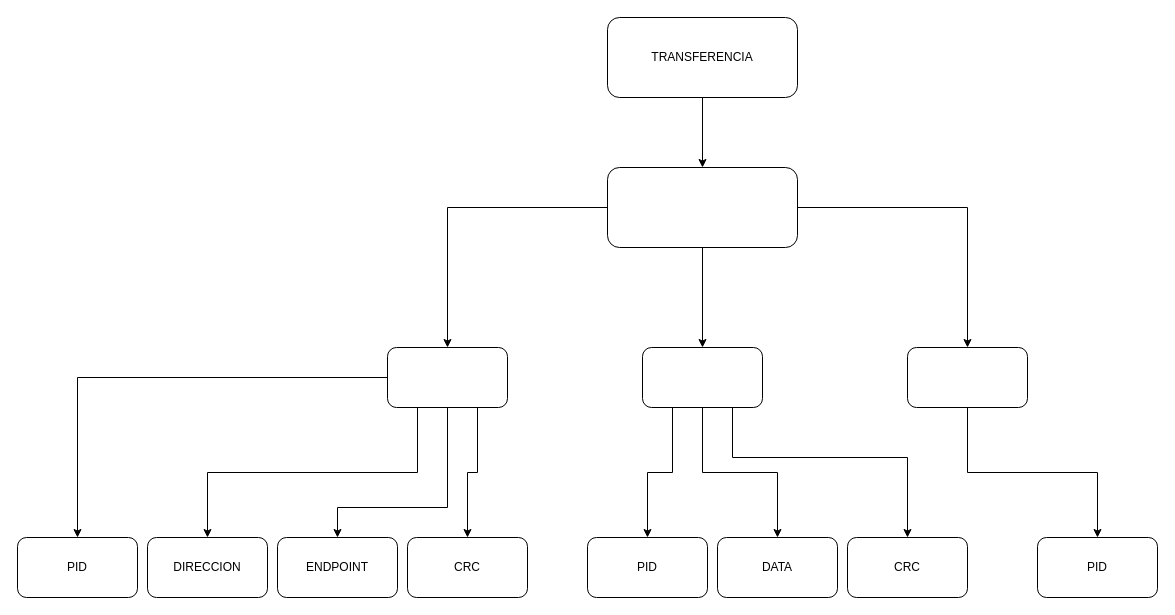
This 1175x615 diagram has some shape labels left out. Each missing label, with the centre of its shape:
"DATA PACKET" goes at point (702, 377).
"HANDSHAKE PACKET" goes at point (967, 377).
"TOKEN PACKET" goes at point (447, 377).
"TRANSACCION" goes at point (702, 207).
